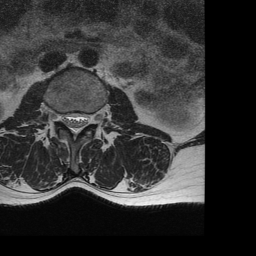CCS_normal: (70, 103, 79, 146)
LFS_normal: (89, 102, 98, 132)
LLS_normal: (79, 102, 89, 135)
RFS_normal: (53, 101, 61, 131)
RLS_normal: (61, 103, 70, 134)
